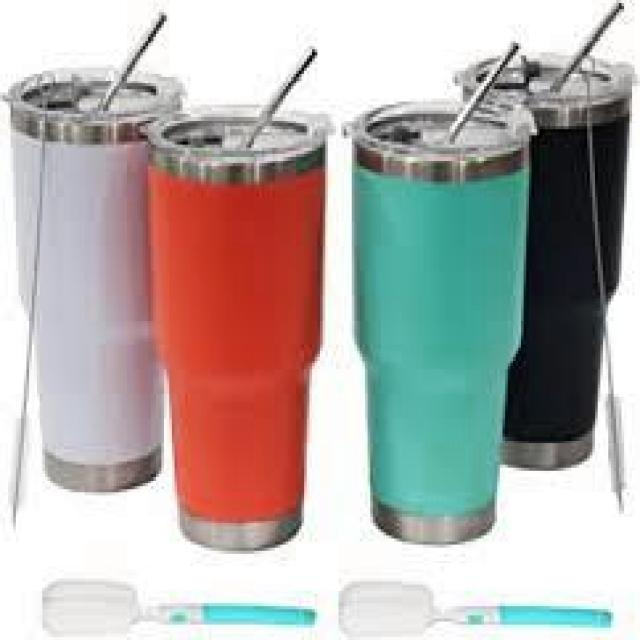bottle: (142, 41, 330, 562), (449, 0, 640, 474), (7, 9, 186, 496), (346, 98, 534, 551)
